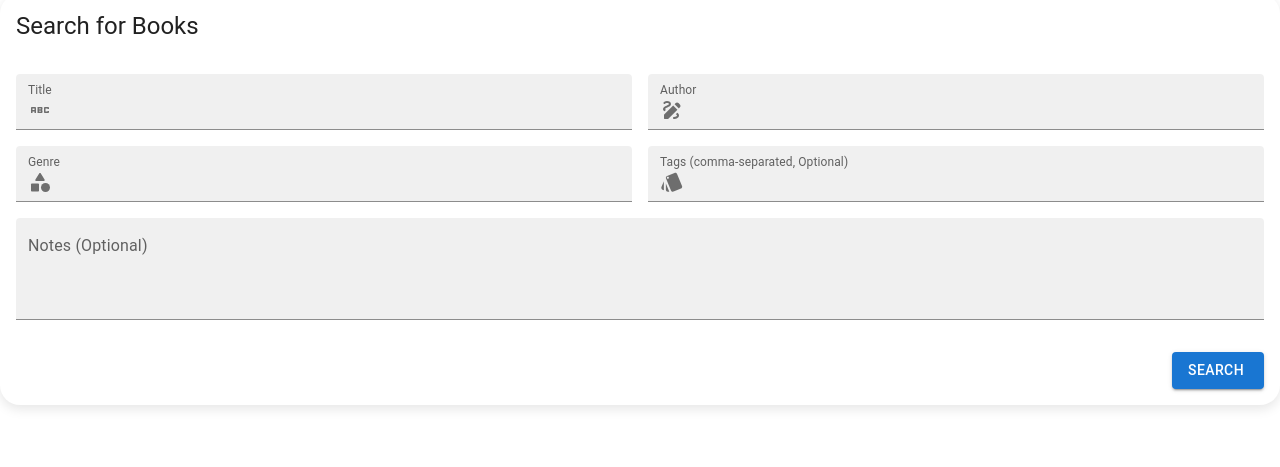
SearchForm › shows validation error when no required fields are filled
Click the button "Search": (1218, 370) [1172,352,1264,388]
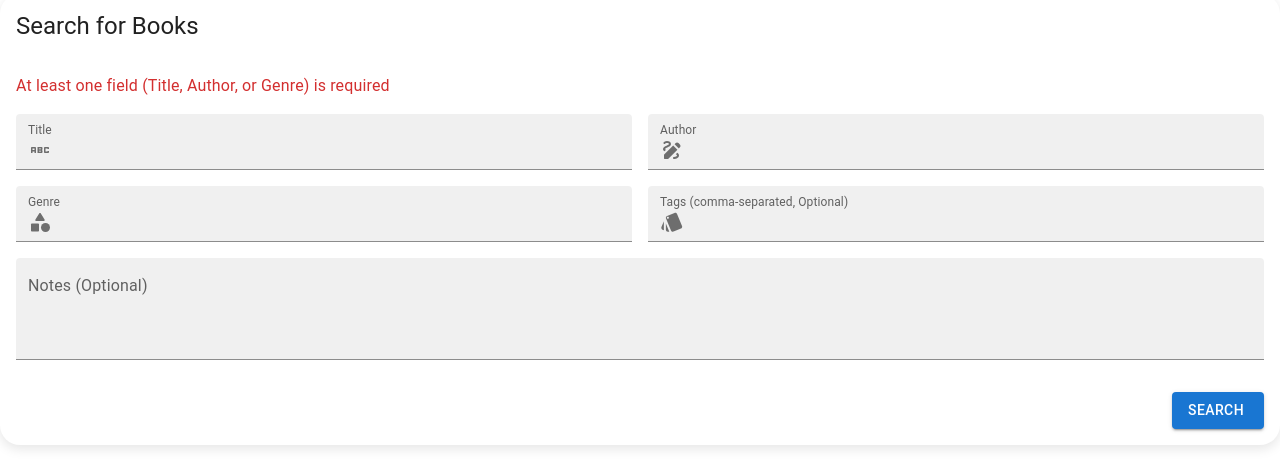
Expected: the text "At least one field (Title, Author, or Genre) is required" is shown, [16,76,390,95]
